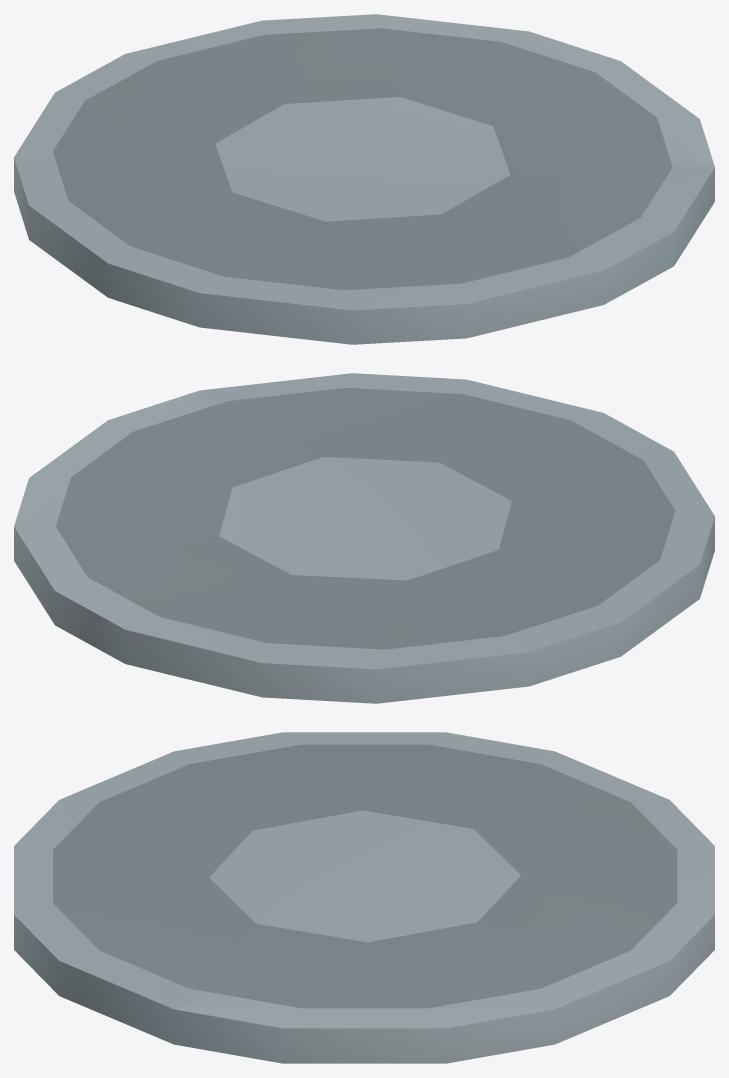
Rendered from Manhole_01.glb.
The picture shows the model from 3 angles, top to bottom: view 1: azimuth 30°, elevation 25°; view 2: azimuth 150°, elevation 25°; view 3: azimuth 270°, elevation 25°; orthographic projection. The views are drawn at different scales.
Visible parts, largest first — view 1: Manhole_01; view 2: Manhole_01; view 3: Manhole_01.
Part boxes in pixels (box(x1,y1,x2,y2)): Manhole_01: box(14, 14, 714, 344); Manhole_01: box(14, 373, 714, 703); Manhole_01: box(14, 732, 714, 1063).
Bounding box in the file's own units: 0.9434 × 0.0572 × 0.9434.
Materials: 1 (1 with a texture image).
